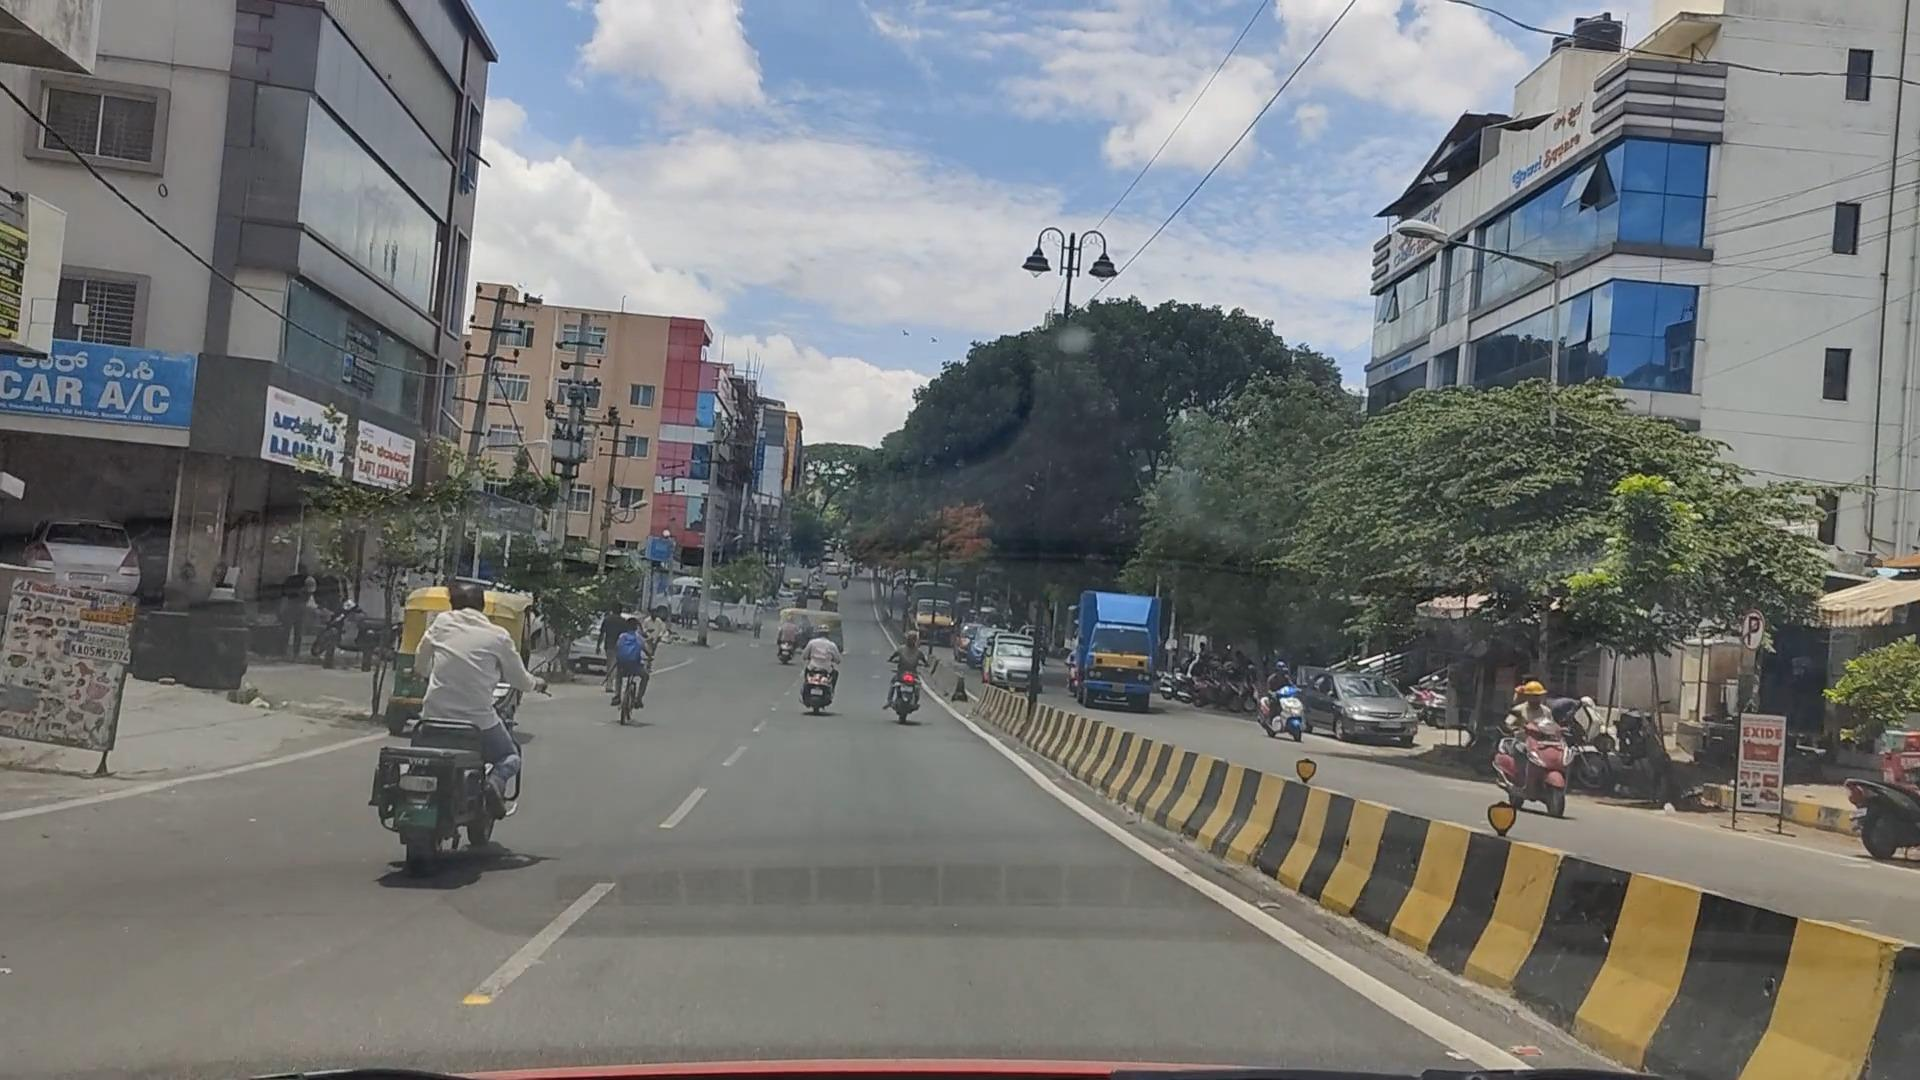LMV: (373, 530, 537, 860)
